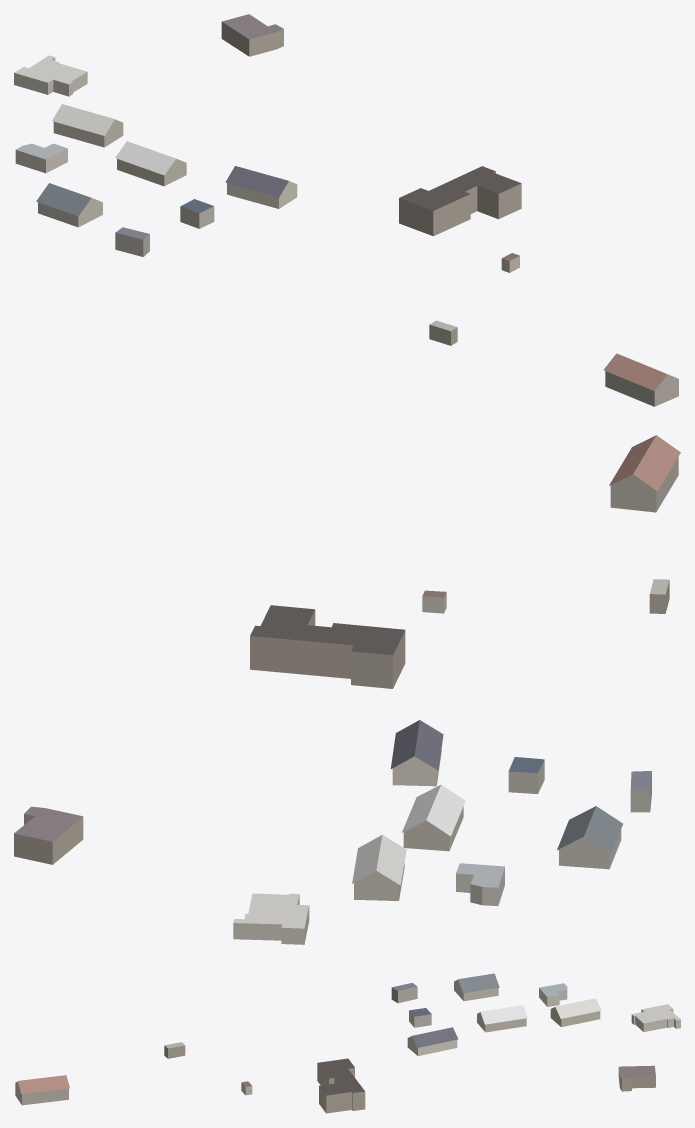
The picture shows the model from 3 angles, top to bottom: view 1: azimuth 30°, elevation 25°; view 2: azimuth 150°, elevation 25°; view 3: azimuth 270°, elevation 25°; orthographic projection. The views are drawn at different scales.
Parts seen in each view (by area): view 1: tuile; view 2: tuile; view 3: tuile.
Boxes of the visible parts, x1,y1,x2,y2 form: tuile: (14, 14, 678, 406); tuile: (14, 435, 680, 944); tuile: (15, 973, 680, 1113).
Size of the model in its own units: 111 by 14.51 by 245.
